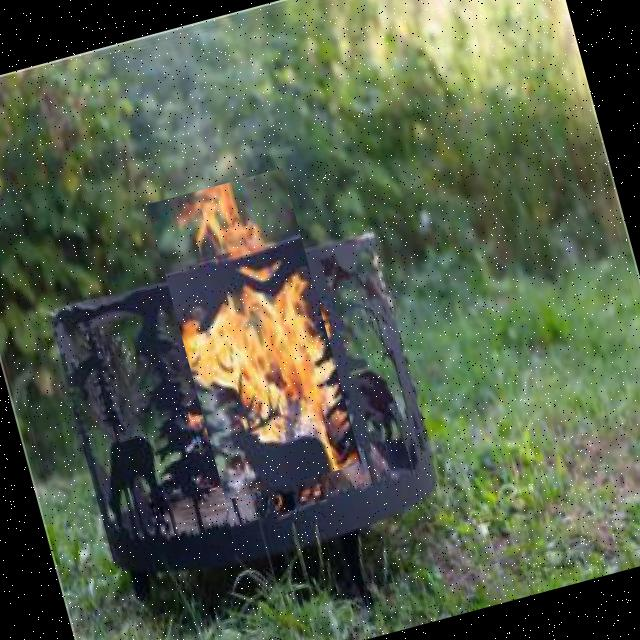fire: (146, 168, 362, 500)
